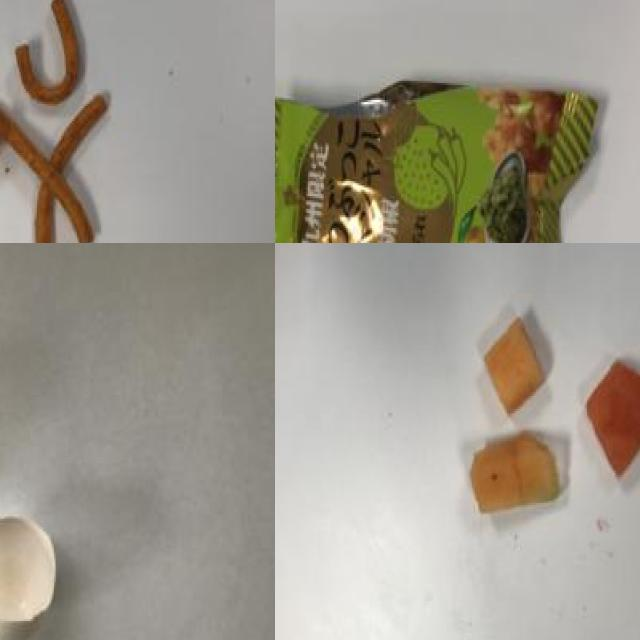compost: (439, 278, 640, 567), (0, 0, 121, 243), (0, 393, 63, 640)
trash: (275, 58, 613, 243)
